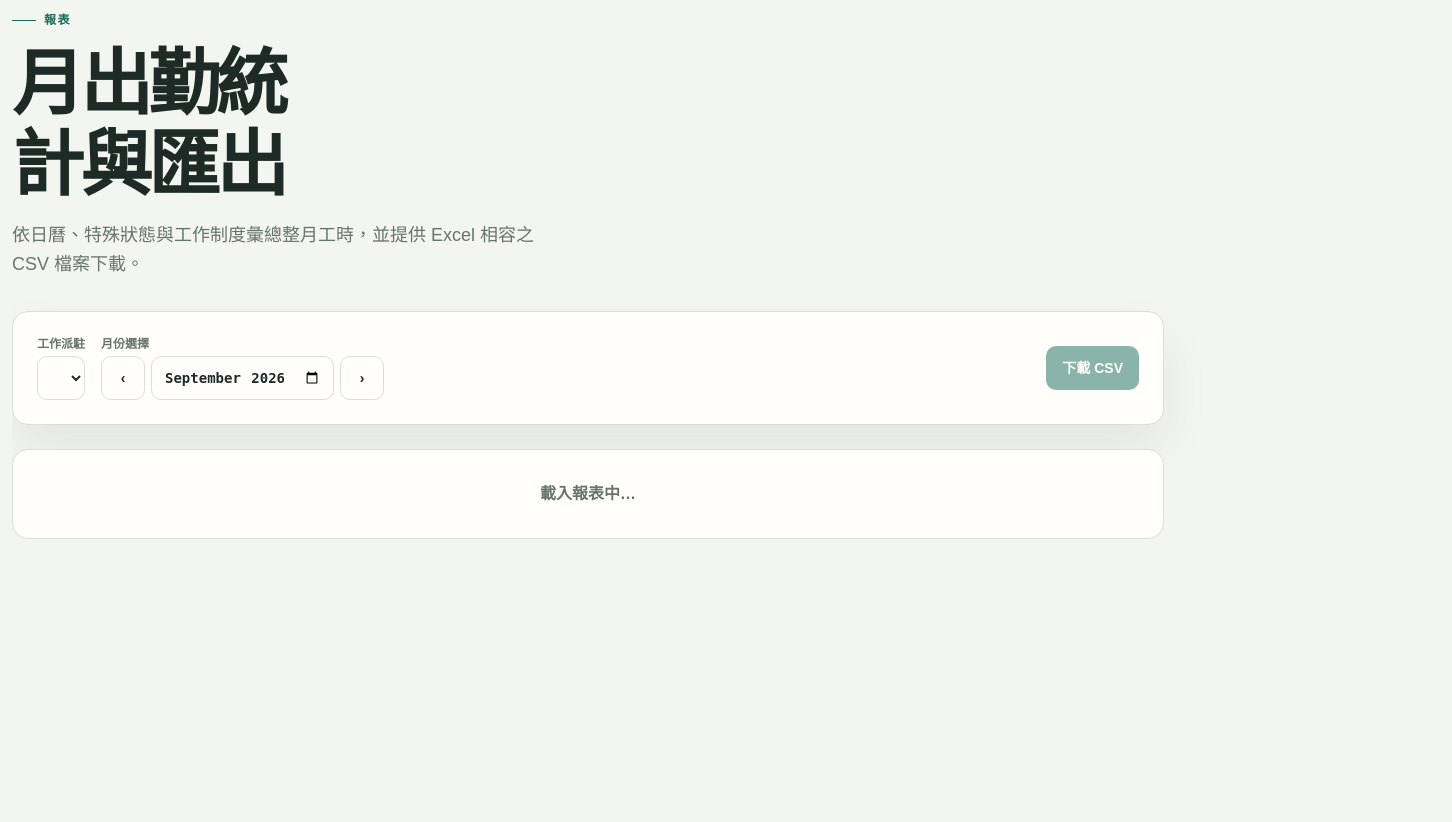
Test: ReportView › 固定 fixture 驗證各工時 summary 數值精確顯示
Replace the text in the field with test id "month-input" with "2026-08" at (242, 378), box [151,356,334,400]
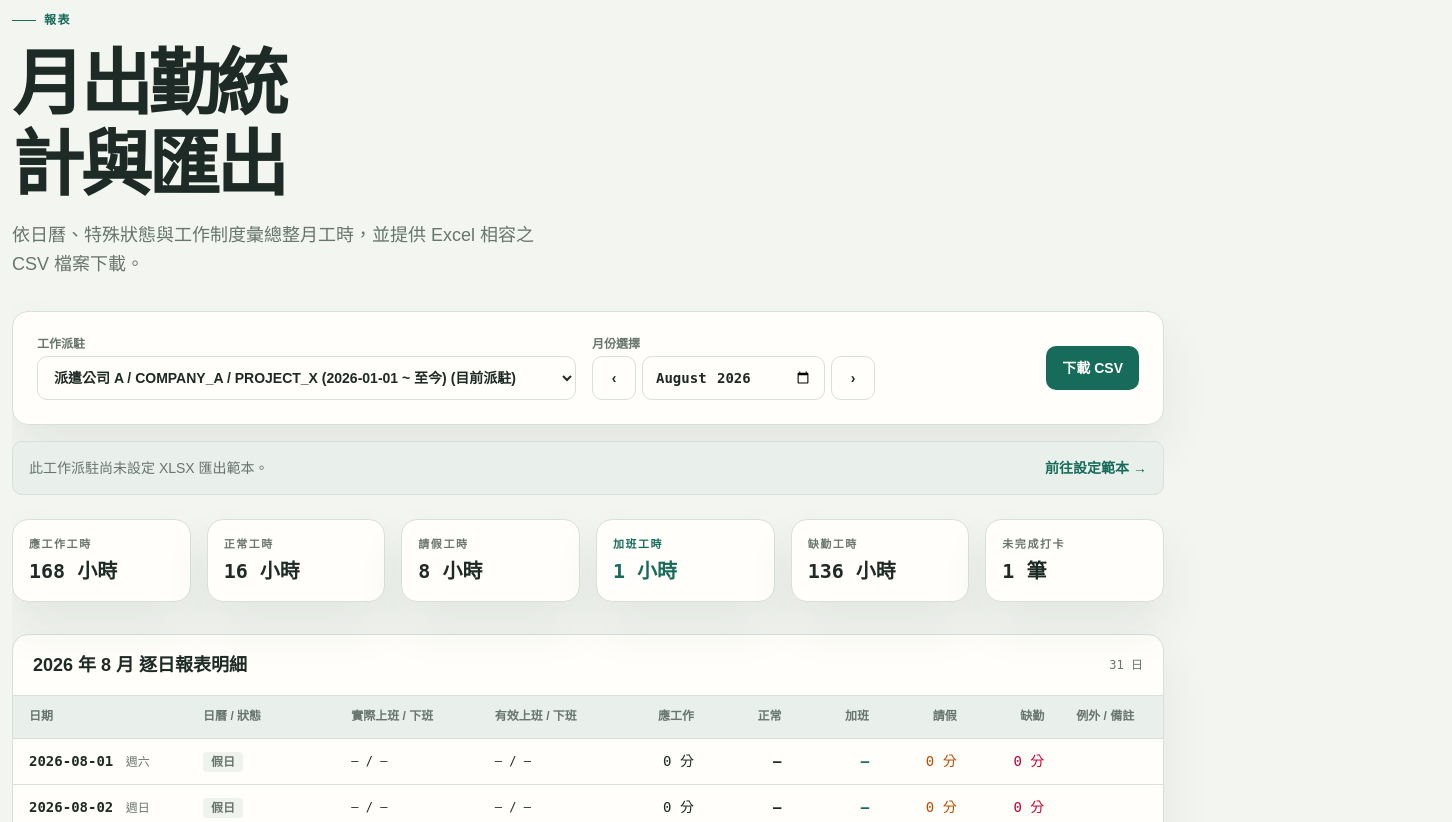
Result: the element with test id "summary-scheduled" shows "168 小時" at [29,559,117,583]
Result: the element with test id "summary-regular" shows "16 小時" at [224,559,300,583]
Result: the element with test id "summary-overtime" shows "1 小時" at [613,559,677,583]
